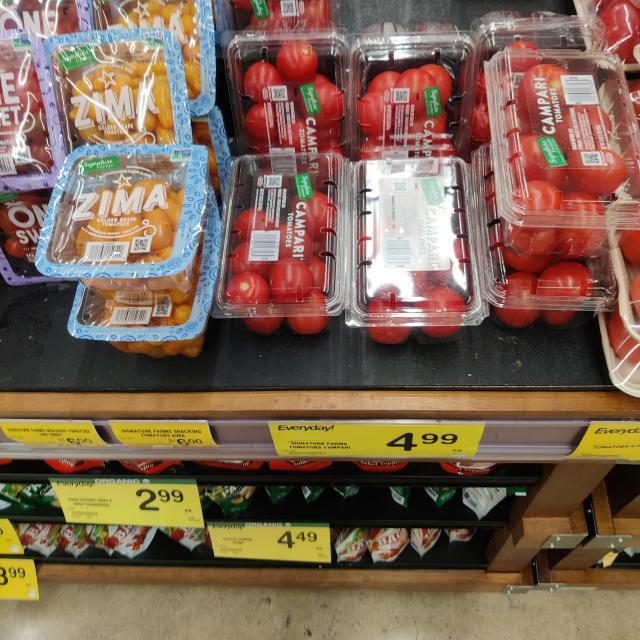Tomatoes: (487, 43, 640, 258), (343, 157, 490, 345), (44, 148, 212, 300), (219, 146, 346, 335), (30, 31, 202, 169), (220, 24, 350, 164), (349, 27, 471, 163)
